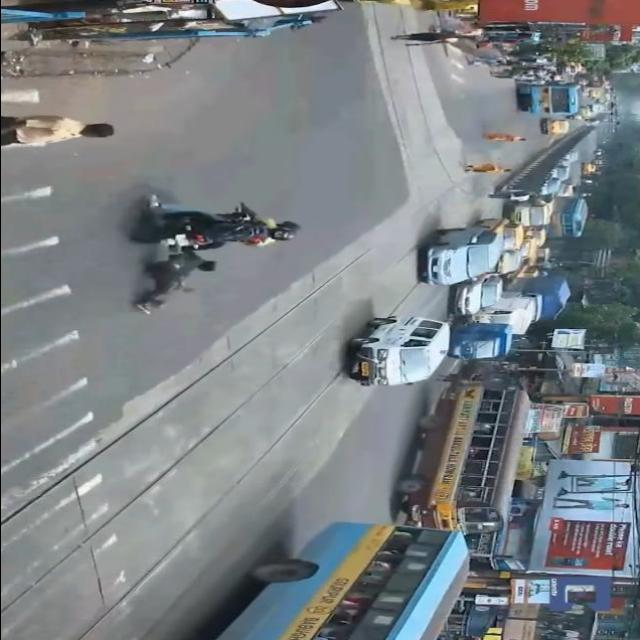accident: (129, 169, 315, 317)
